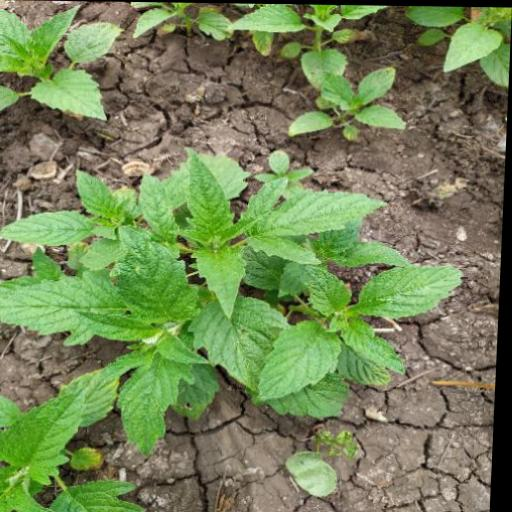crop: (0, 145, 471, 454), (0, 381, 161, 512), (0, 5, 121, 126), (405, 6, 512, 88), (300, 67, 405, 137), (126, 2, 233, 47)
